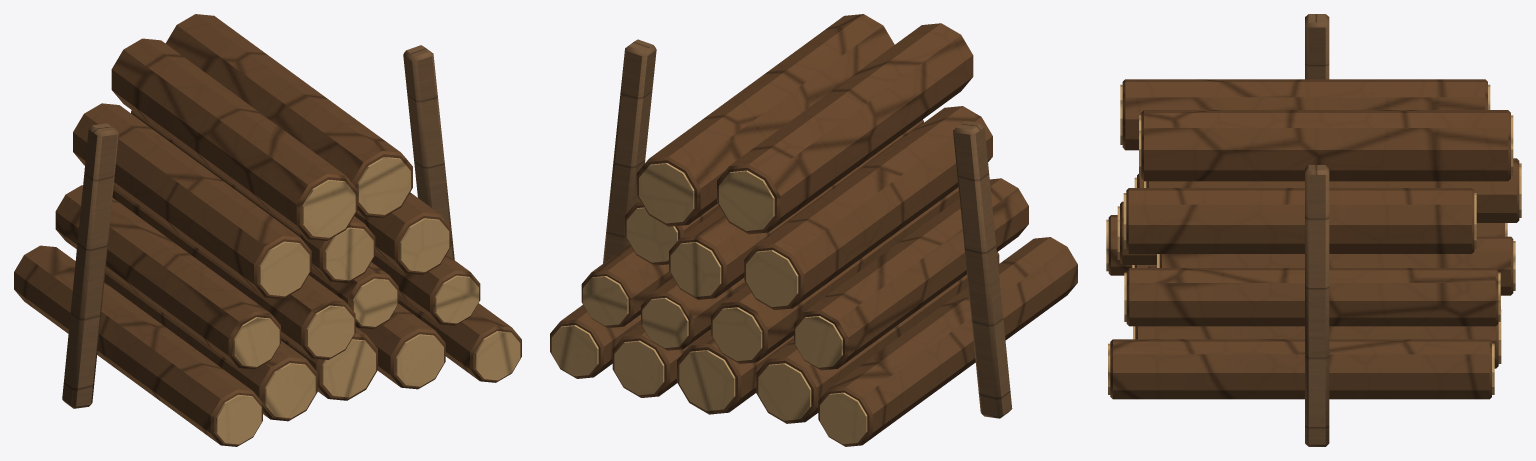
Rendered from log_pile.glb.
The picture shows the model from 3 angles, left to right: view 1: azimuth 30°, elevation 25°; view 2: azimuth 150°, elevation 25°; view 3: azimuth 270°, elevation 25°; orthographic projection. The views are drawn at different scales.
Visible parts, largest first — view 1: log_pile; view 2: log_pile; view 3: log_pile.
Part boxes in pixels (bbox=[...]): log_pile: bbox=[14, 14, 521, 446]; log_pile: bbox=[550, 14, 1077, 446]; log_pile: bbox=[1106, 14, 1521, 446].
Size of the model in its own units: 1.8 by 1.2 by 1.71.
Materials: 3 (3 with a texture image).
